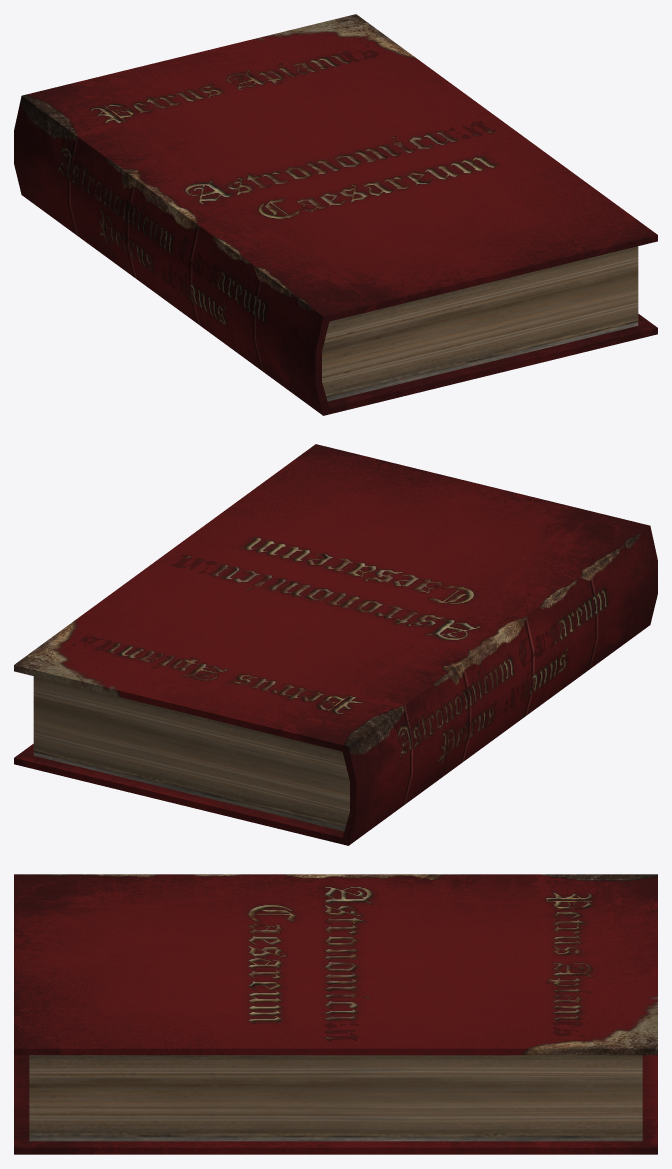
Rendered from buch_2.fbx.
3 views of the same model, one above another, from view 1: azimuth 30°, elevation 25°; view 2: azimuth 150°, elevation 25°; view 3: azimuth 270°, elevation 25° (orthographic). The views are drawn at different scales.
Visible parts, largest first — view 1: Book_2; view 2: Book_2; view 3: Book_2.
Part boxes in pixels (box(x1,y1,x2,y2)): Book_2: box(14, 14, 657, 415); Book_2: box(14, 444, 657, 845); Book_2: box(14, 874, 657, 1154).
Size of the model in its own units: 0.142 by 0.0394 by 0.217.
